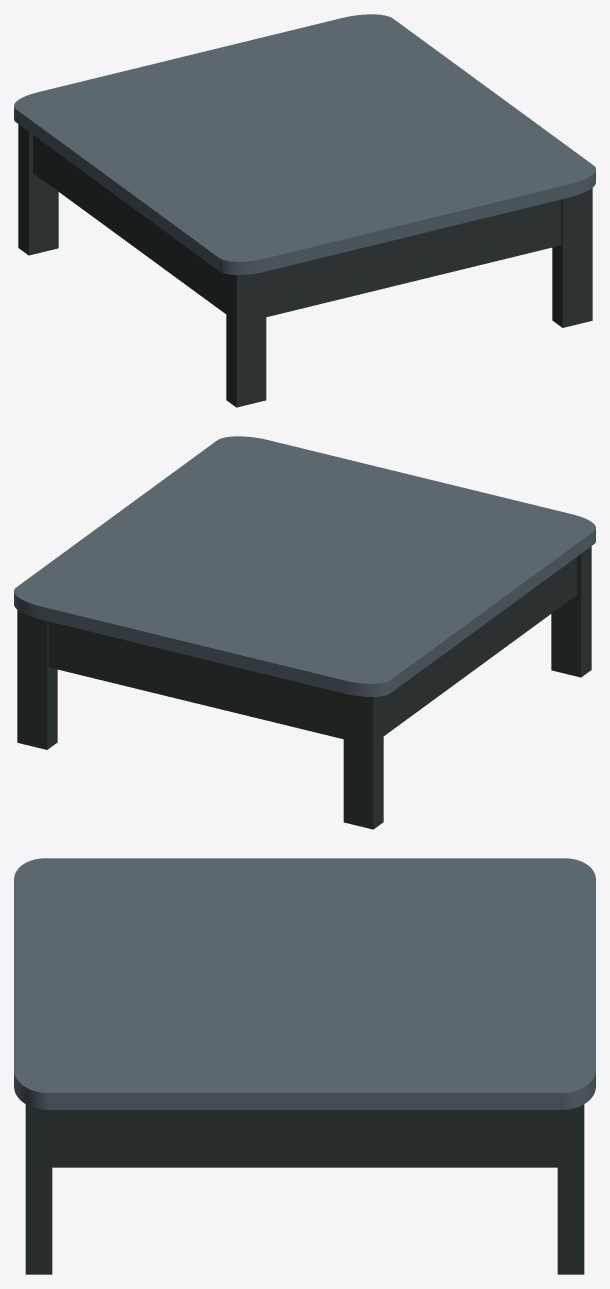
Rendered from Mesa.obj.
The picture shows the model from 3 angles, top to bottom: view 1: azimuth 30°, elevation 25°; view 2: azimuth 150°, elevation 25°; view 3: azimuth 270°, elevation 25°; orthographic projection. The views are drawn at different scales.
Parts seen in each view (by area): view 1: deskWorn_OBJ:deskWorn; view 2: deskWorn_OBJ:deskWorn; view 3: deskWorn_OBJ:deskWorn.
Boxes of the visible parts, box(x1,y1,x2,y2) form: deskWorn_OBJ:deskWorn: box(14, 14, 595, 407); deskWorn_OBJ:deskWorn: box(14, 436, 595, 829); deskWorn_OBJ:deskWorn: box(14, 858, 595, 1274).
Bounding box in the file's own units: 1.13 × 0.4229 × 1.19.
2 materials, 2 textured.
